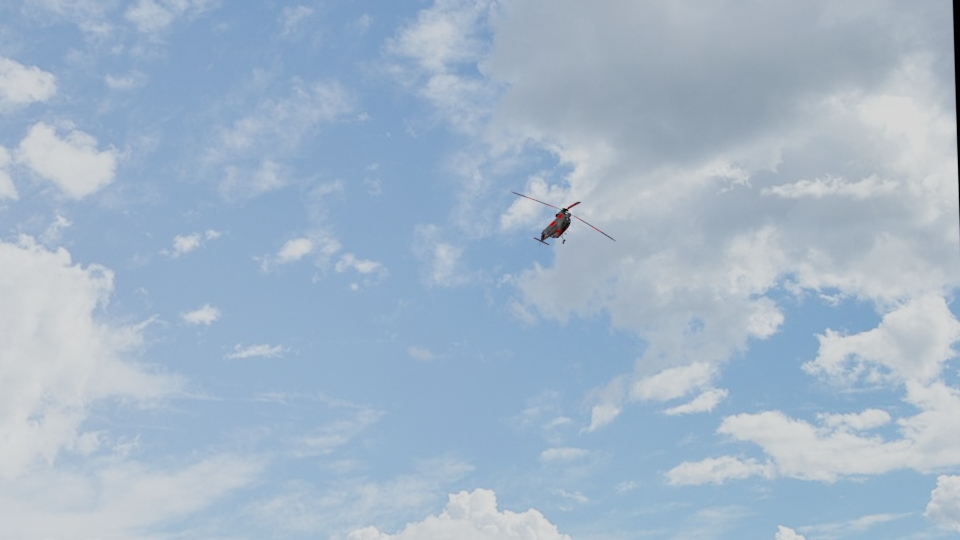heli: (533, 196, 585, 250)
